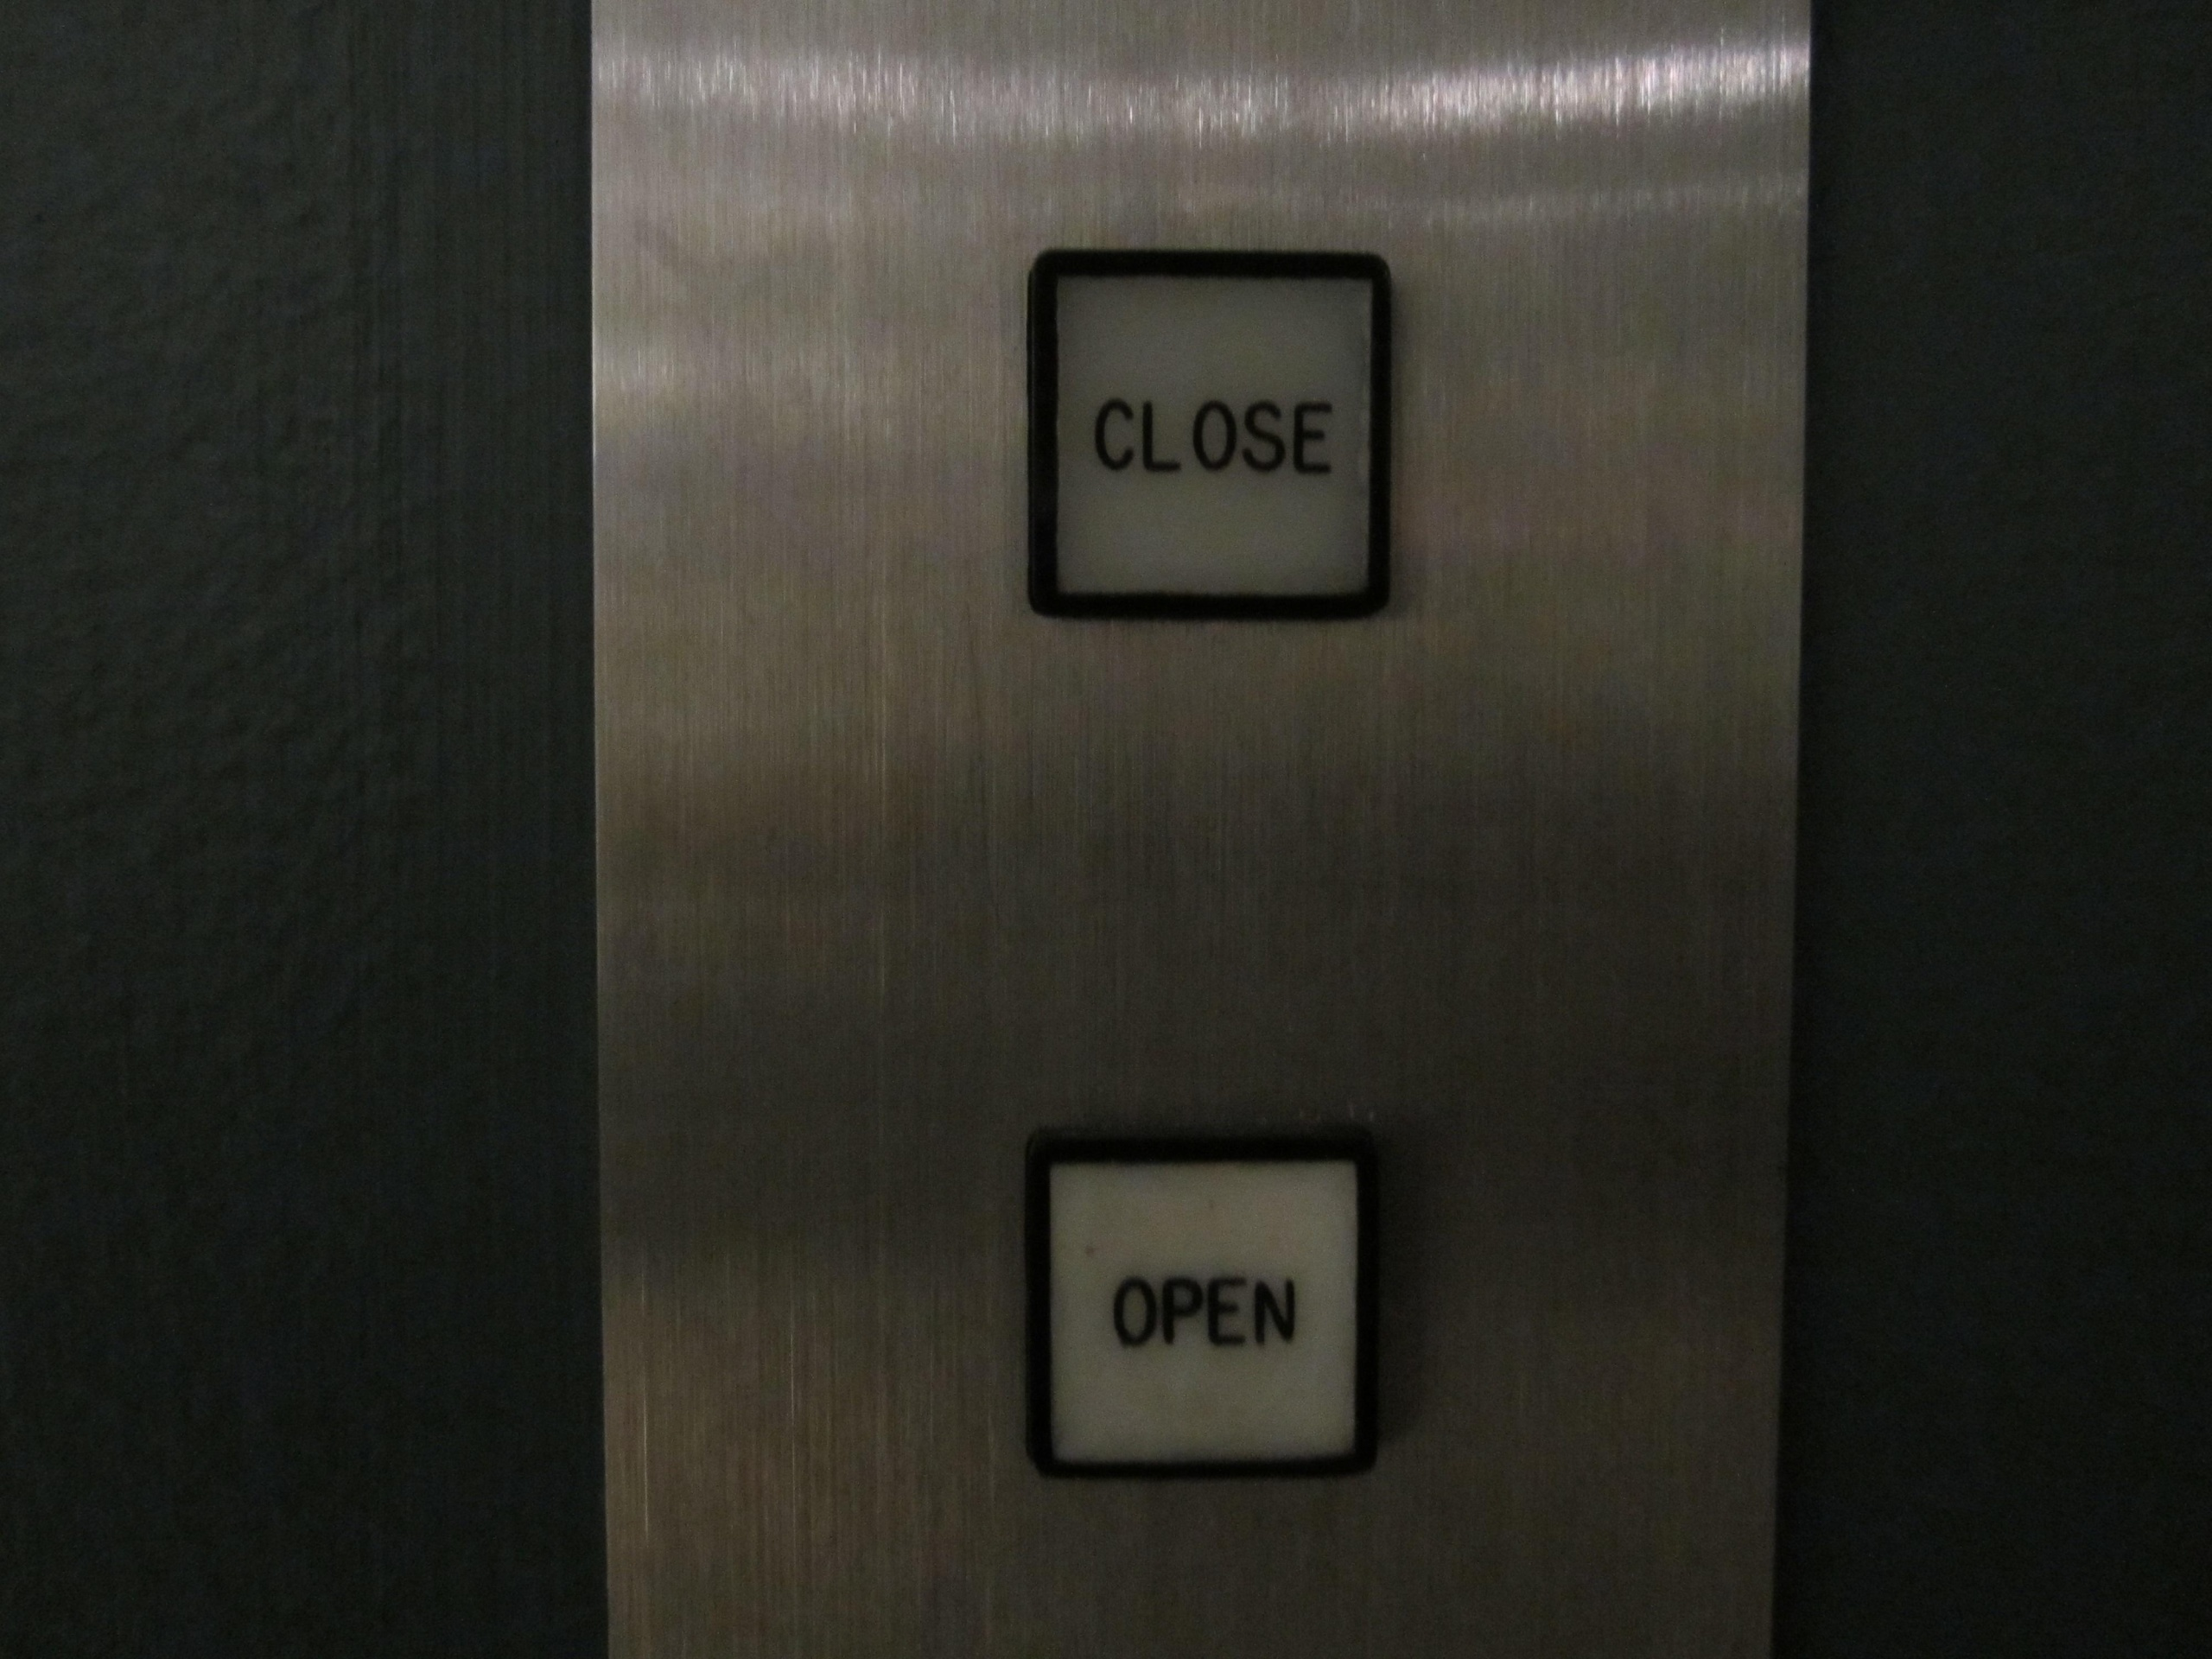text_close: (1014, 240, 1406, 631)
text_open: (1007, 1117, 1392, 1492)
